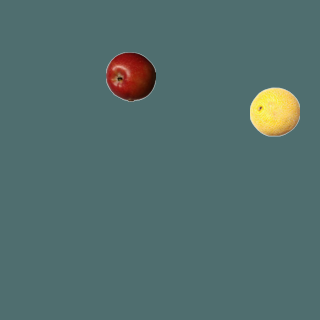Apple Braeburn: (105, 51, 155, 101)
Cantaloupe 1: (249, 86, 299, 136)
